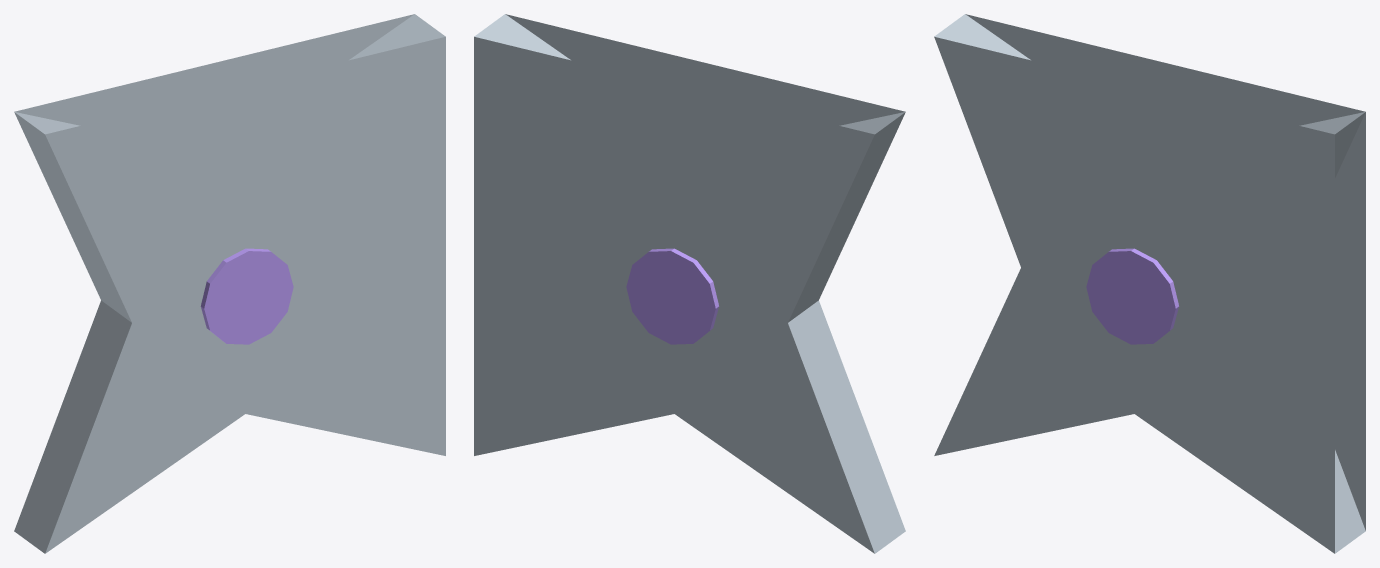
The model's file is Shuriken.fbx.
The picture shows the model from 3 angles, left to right: view 1: azimuth 30°, elevation 25°; view 2: azimuth 150°, elevation 25°; view 3: azimuth 330°, elevation 25°; orthographic projection.
Parts seen in each view (by area): view 1: Shuriken; view 2: Shuriken; view 3: Shuriken.
Part boxes in pixels (bbox=[...]): Shuriken: bbox=[14, 14, 445, 553]; Shuriken: bbox=[474, 14, 905, 553]; Shuriken: bbox=[934, 14, 1365, 553].
Bounding box in the file's own units: 13.44 × 13.44 × 2.2.
